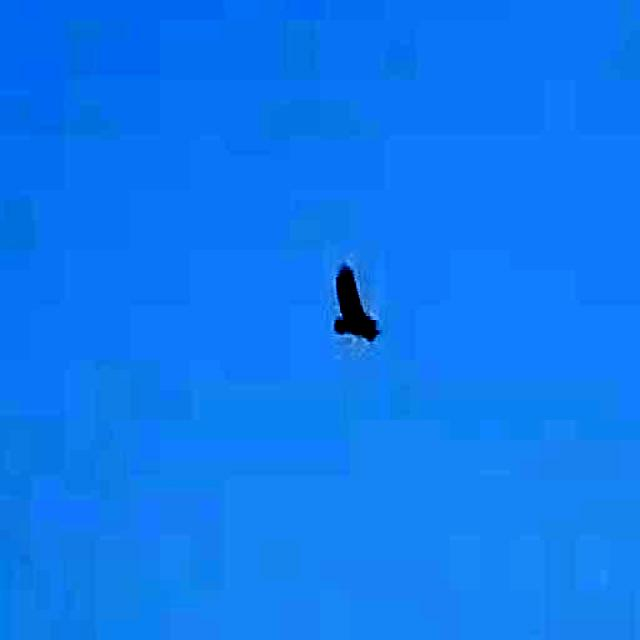airplane: (322, 250, 391, 360)
